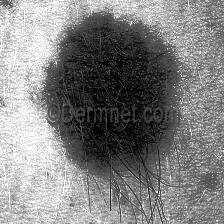Potentially Malignant Skin Tumors: (50, 26, 166, 165)
